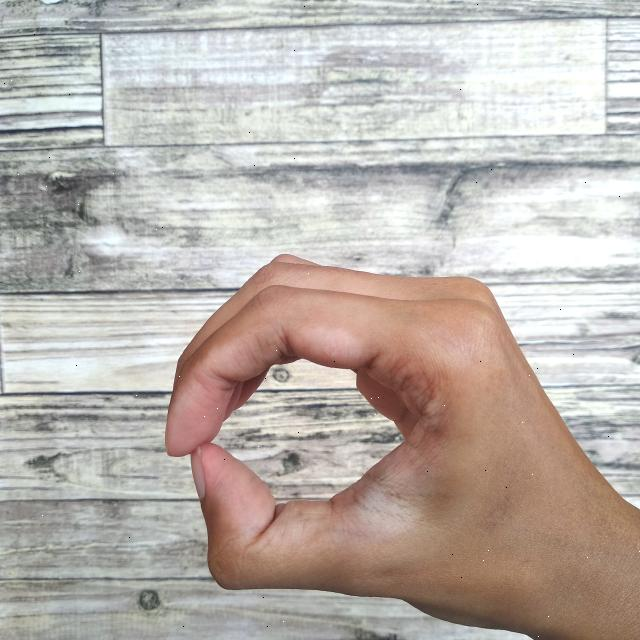O: (159, 237, 640, 640)
